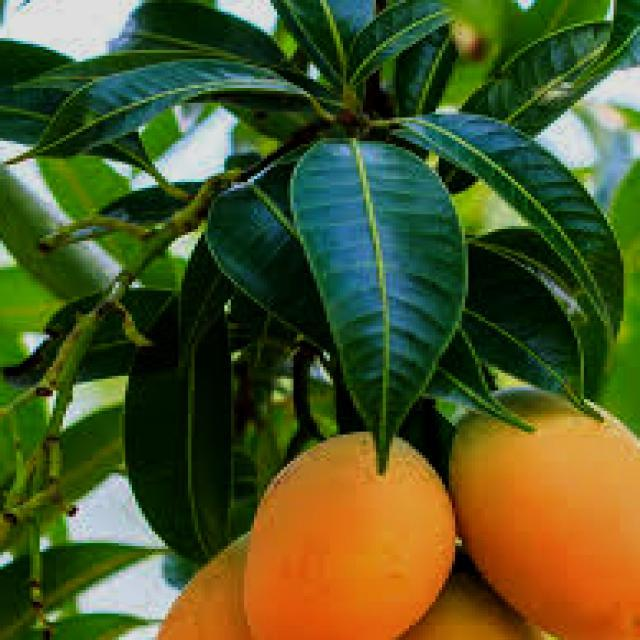leaf: (288, 135, 468, 474)
